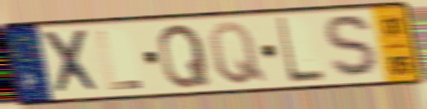L: (273, 14, 327, 86), (94, 28, 145, 93)
Q: (206, 20, 269, 88), (157, 22, 214, 92)
S: (322, 12, 385, 82)
X: (39, 27, 105, 98)
